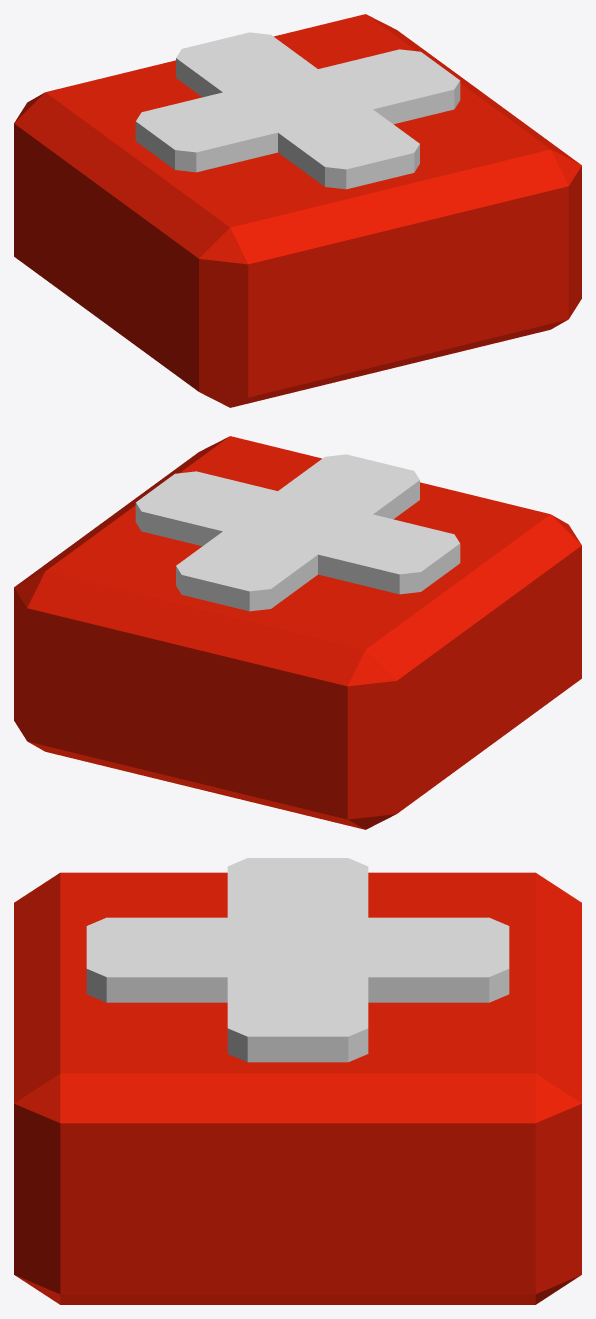
Rendered from medkit.fbx.
3 views of the same model, one above another, from view 1: azimuth 30°, elevation 25°; view 2: azimuth 150°, elevation 25°; view 3: azimuth 270°, elevation 25° (orthographic). The views are drawn at different scales.
Parts seen in each view (by area): view 1: Base, Cross; view 2: Base, Cross; view 3: Base, Cross.
Boxes of the visible parts, x1=… form: Base: x1=14, y1=14, x2=581, y2=407; Cross: x1=135, y1=32, x2=460, y2=189; Base: x1=14, y1=436, x2=581, y2=829; Cross: x1=135, y1=454, x2=460, y2=611; Base: x1=14, y1=872, x2=581, y2=1304; Cross: x1=86, y1=858, x2=509, y2=1062.
Bounding box in the file's own units: 62.57 × 31.26 × 62.57.
